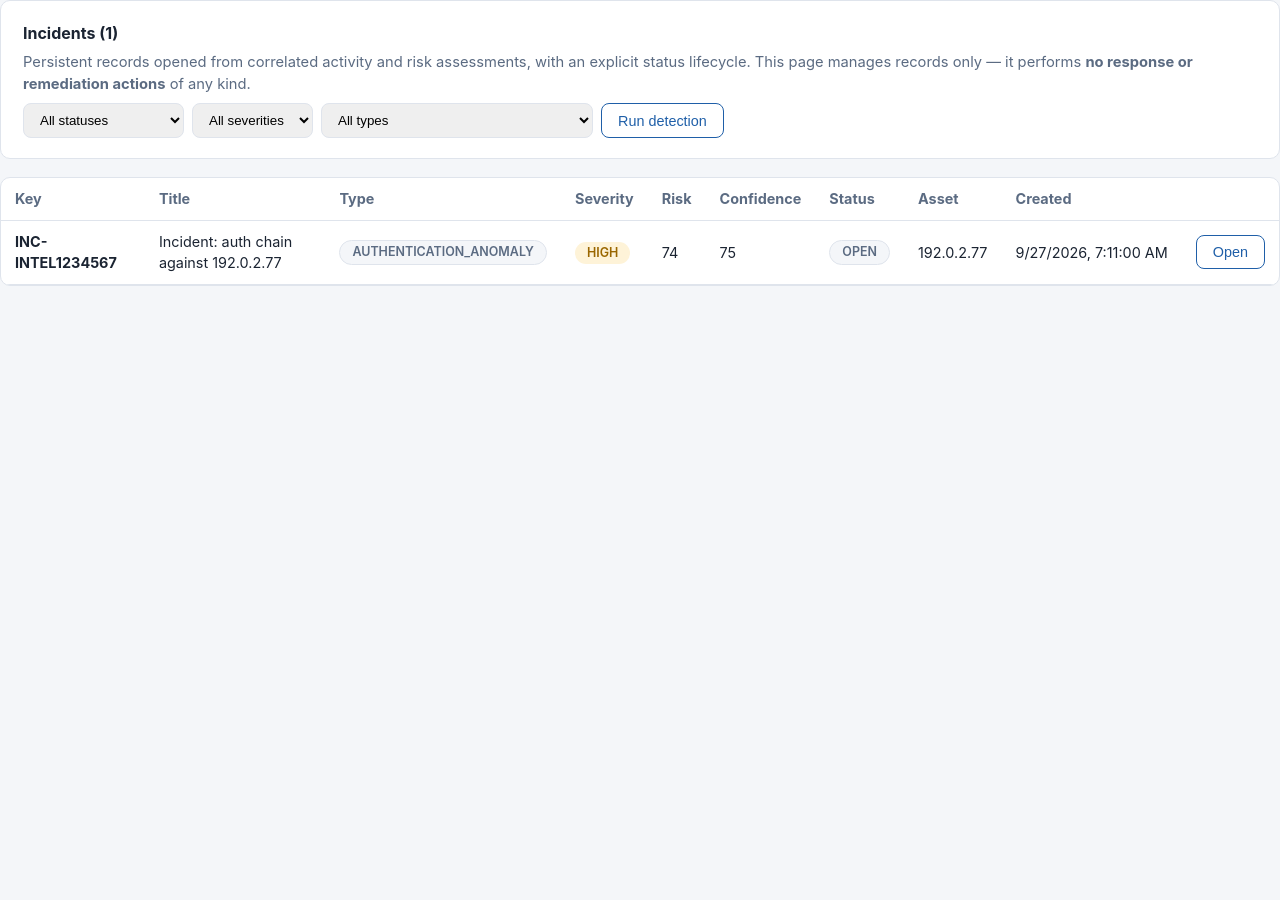
Incident lifecycle hardening (Phase 3, Step 38) › shows exactly the permitted transitions for OPEN
Click the button "Open". click: (1230, 252)
box: [1196,235,1265,269]
(page scrolled)
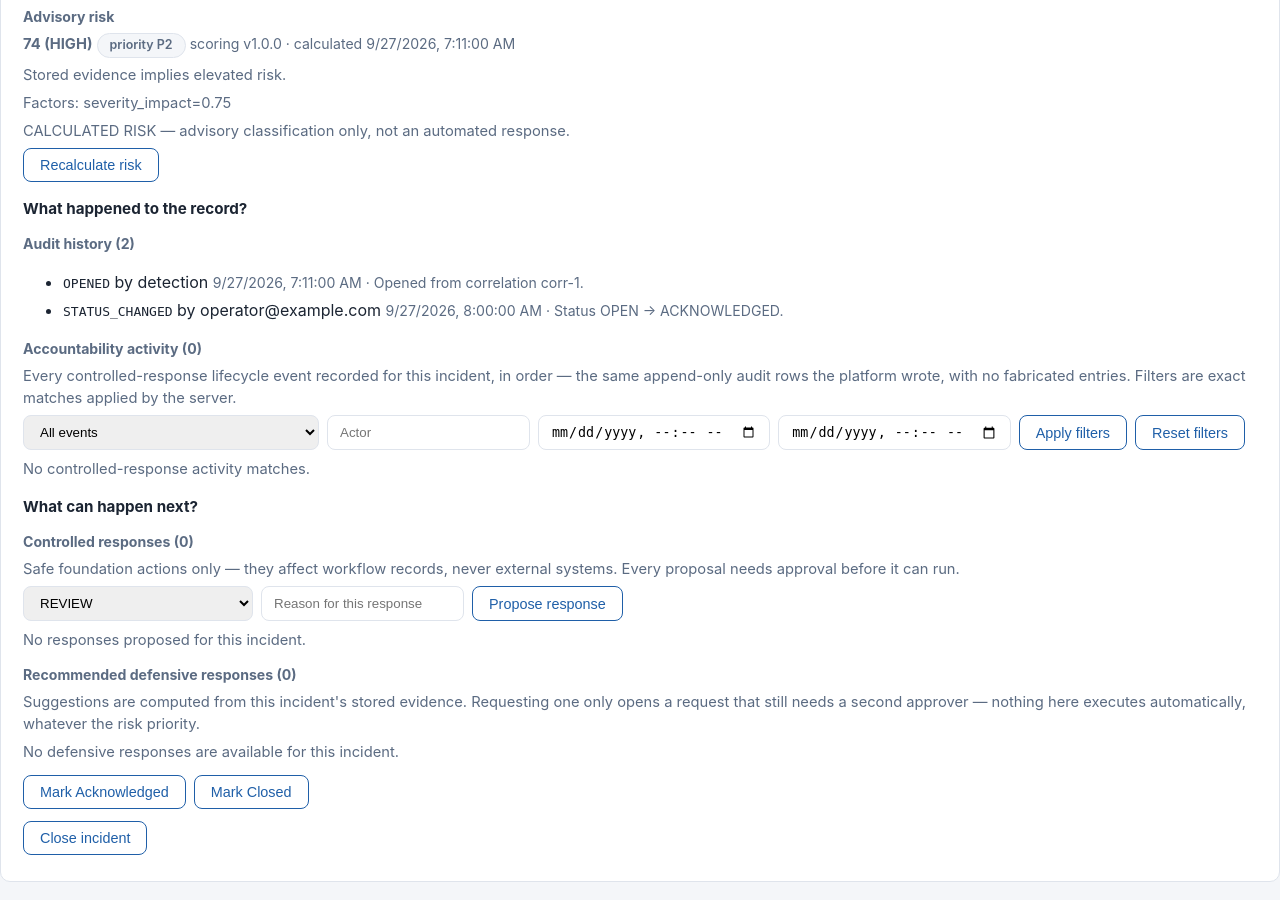
Expected: the button "Mark Acknowledged" is shown, [23,775,186,809]
Expected: the button "Mark Closed" is shown, [194,775,309,809]
